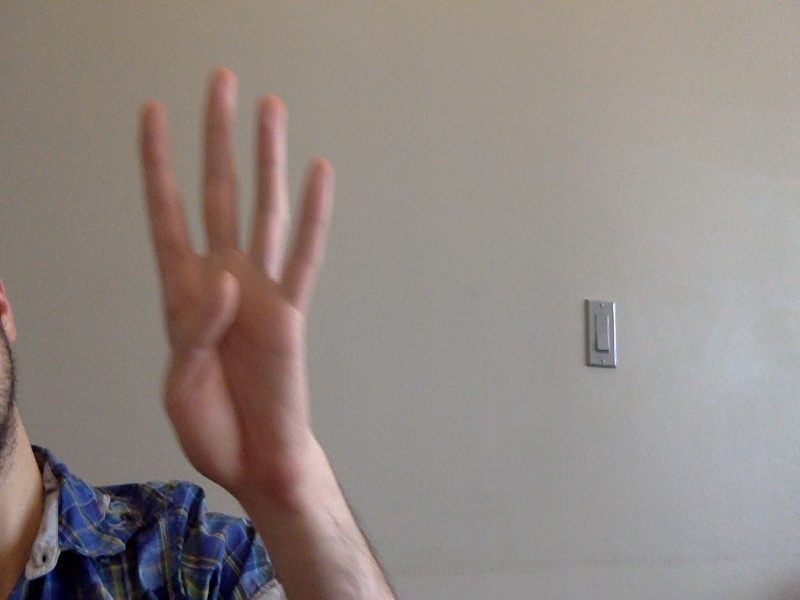4-hand: (139, 68, 332, 488)
